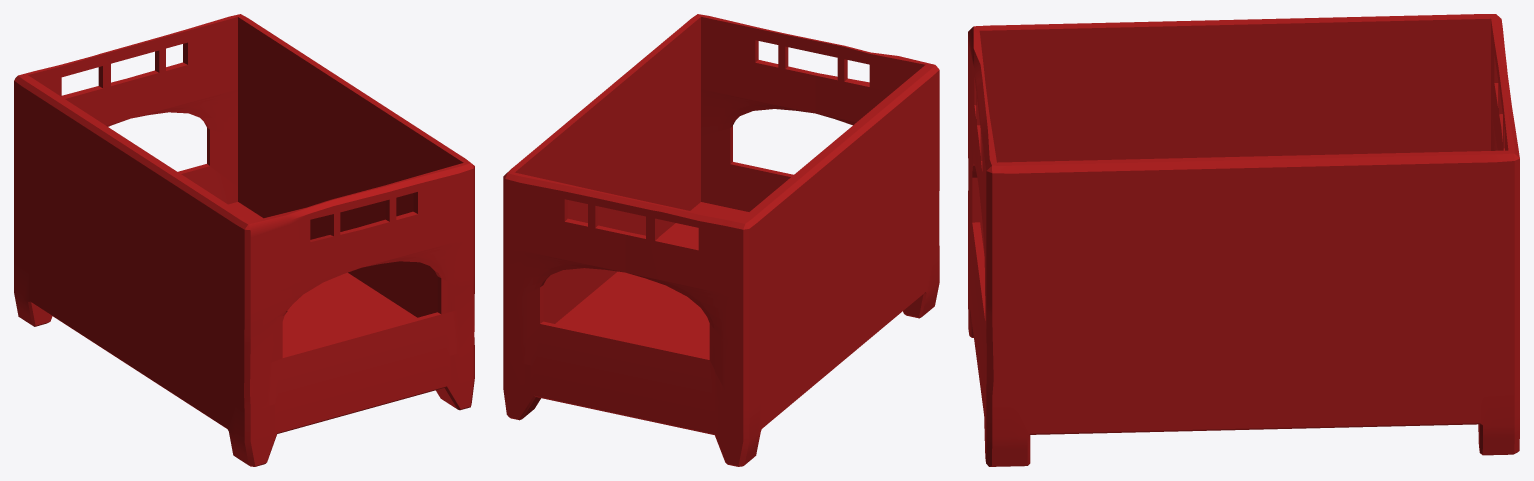
File: boxJaune.fbx
The picture shows the model from 3 angles, left to right: view 1: azimuth 30°, elevation 25°; view 2: azimuth 150°, elevation 25°; view 3: azimuth 270°, elevation 25°; orthographic projection. The views are drawn at different scales.
Parts seen in each view (by area): view 1: CaisseEpicerie; view 2: CaisseEpicerie; view 3: CaisseEpicerie.
Part boxes in pixels (<box>): CaisseEpicerie: <box>14,14,474,466</box>; CaisseEpicerie: <box>503,14,939,466</box>; CaisseEpicerie: <box>968,14,1519,466</box>.
Bounding box in the file's own units: 4.34 × 3.91 × 6.47.
